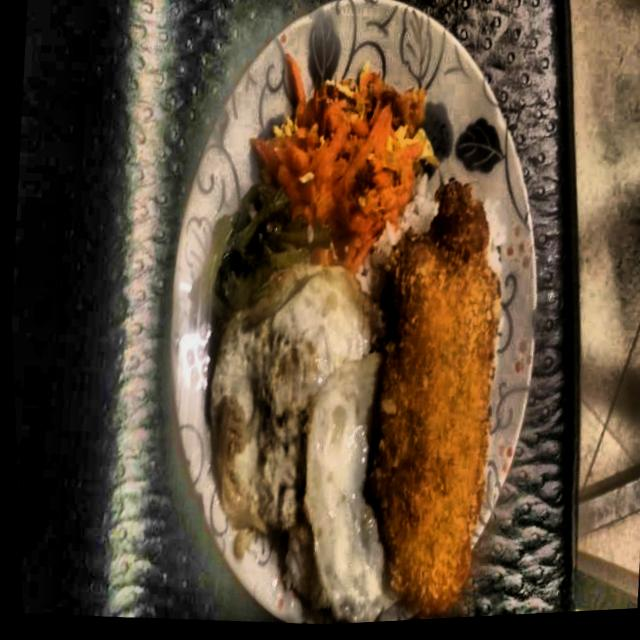Food: (180, 253, 401, 631), (346, 174, 519, 626), (248, 62, 432, 263)
